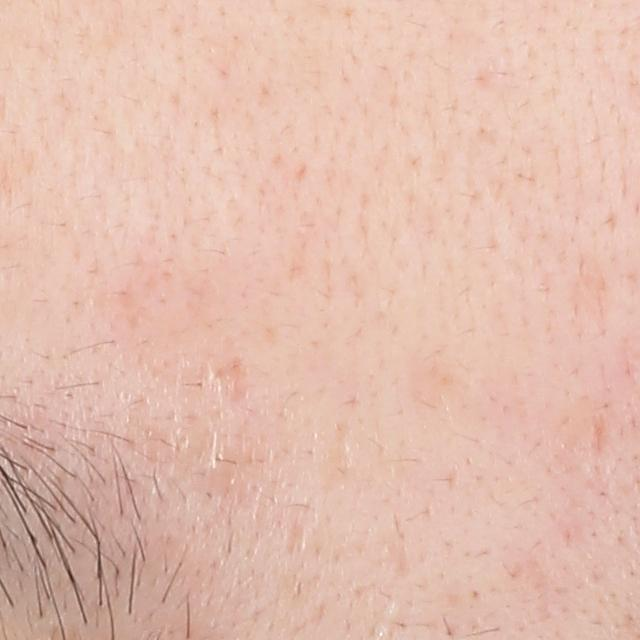atrophic_scar: (406, 362, 482, 417), (212, 355, 248, 401), (591, 411, 610, 463), (284, 522, 307, 554)
